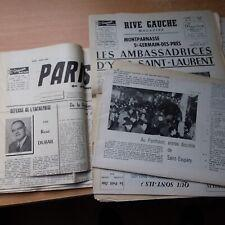paper: (0, 13, 225, 200)
